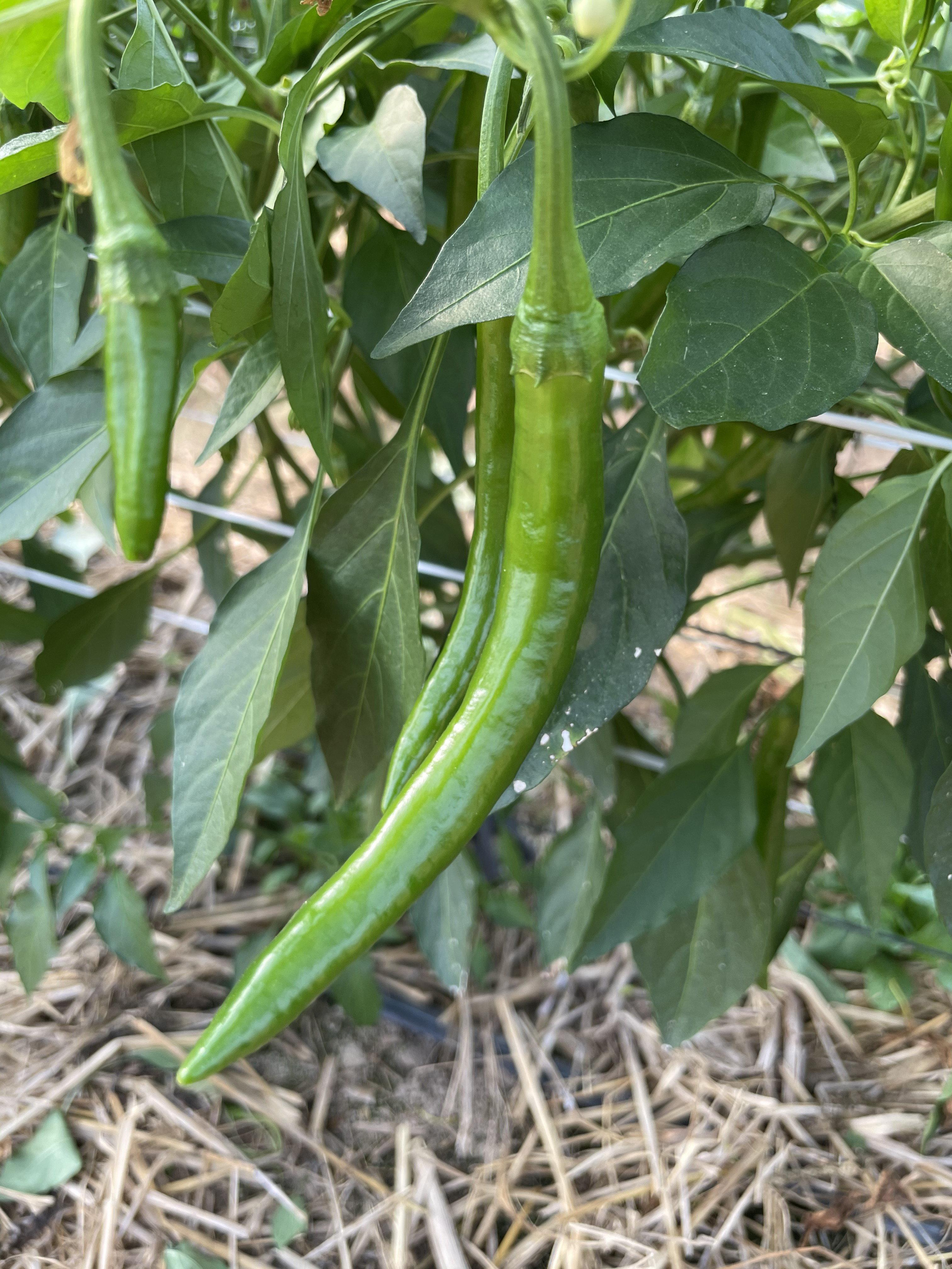Buah Cabai Sehat: (172, 255, 614, 1093), (79, 215, 186, 562)
Daun Cabai Sehat: (157, 508, 305, 933), (785, 459, 952, 771), (645, 231, 872, 440)
